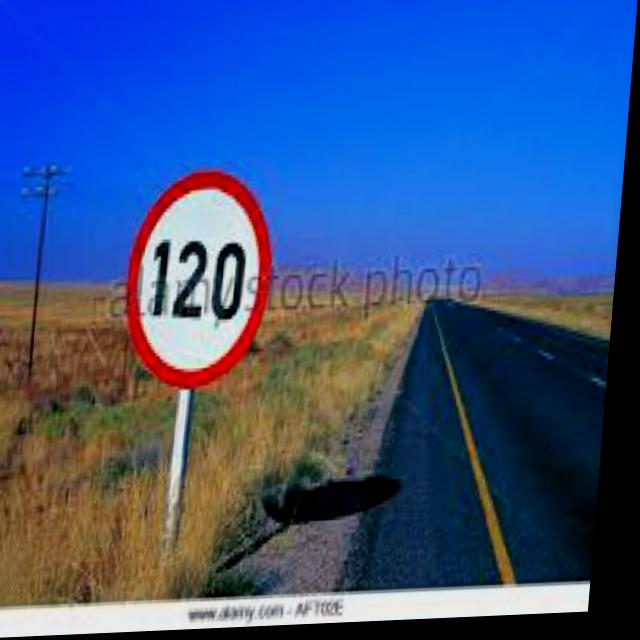limit120: (120, 165, 287, 400)
